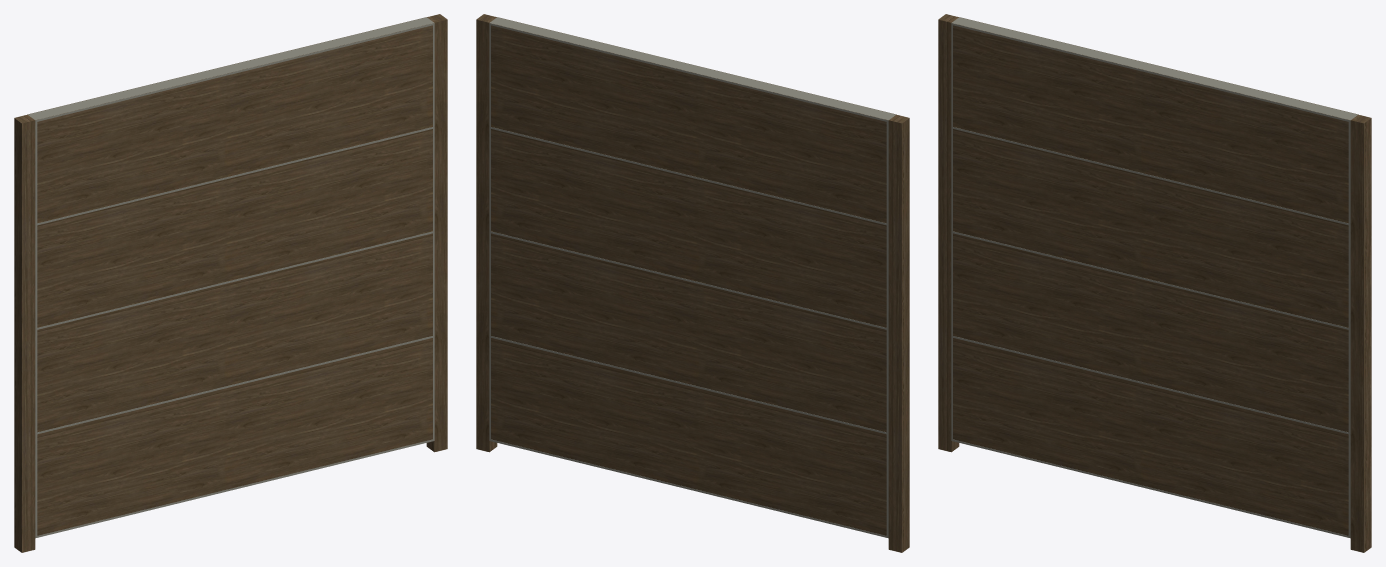
Rendered from ABF1-H1800_brownebony.fbx.
3 views of the same model, side by side, from view 1: azimuth 30°, elevation 25°; view 2: azimuth 150°, elevation 25°; view 3: azimuth 330°, elevation 25° (orthographic).
Parts seen in each view (by area): view 1: 1850-1920-60_brown ebony; view 2: 1850-1920-60_brown ebony; view 3: 1850-1920-60_brown ebony.
Boxes of the visible parts, <box> form: 1850-1920-60_brown ebony: <box>14,14,447,552</box>; 1850-1920-60_brown ebony: <box>476,14,909,552</box>; 1850-1920-60_brown ebony: <box>938,14,1371,552</box>.
Bounding box in the file's own units: 192 × 185 × 6.4.
4 materials, 3 textured.
